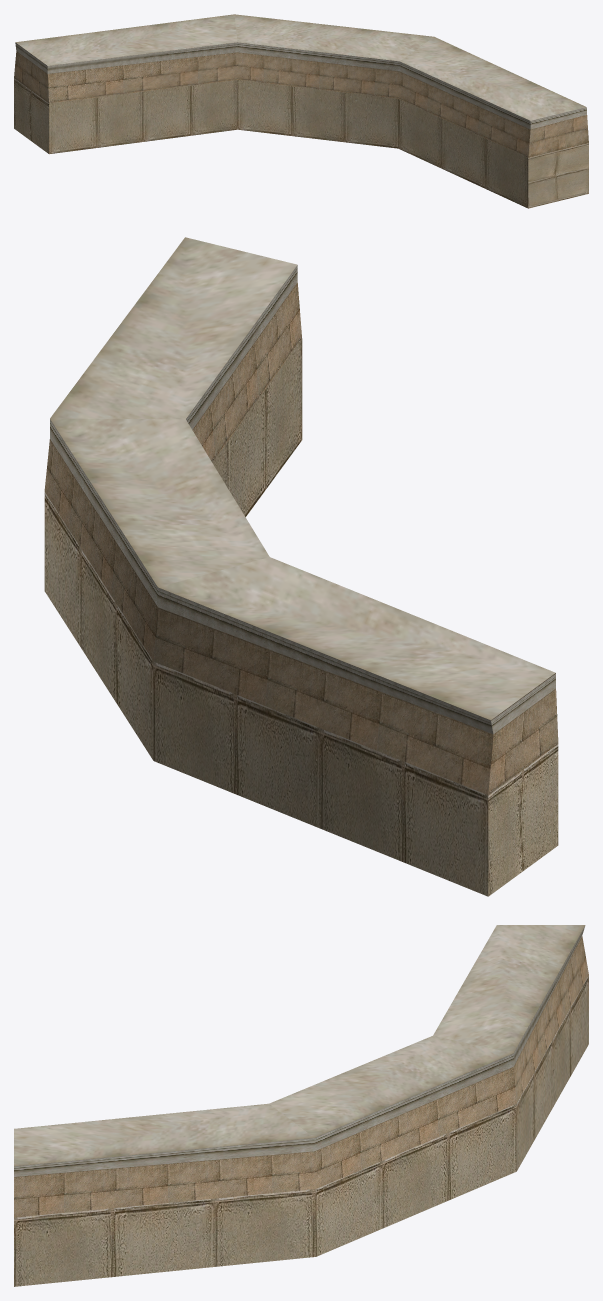
File: thm_nboo_imprv_short_curved_wall_large_s01_l2.fbx
3 views of the same model, one above another, from view 1: azimuth 30°, elevation 25°; view 2: azimuth 150°, elevation 25°; view 3: azimuth 270°, elevation 25° (orthographic). The views are drawn at different scales.
Visible parts, largest first — view 1: mesh_node; view 2: mesh_node; view 3: mesh_node.
Boxes of the visible parts, left/top/right/bottom form: mesh_node: left=14, top=14, right=588, bottom=208; mesh_node: left=44, top=237, right=558, bottom=896; mesh_node: left=14, top=925, right=588, bottom=1286.
Bounding box in the file's own units: 8.72 × 2 × 8.73.
